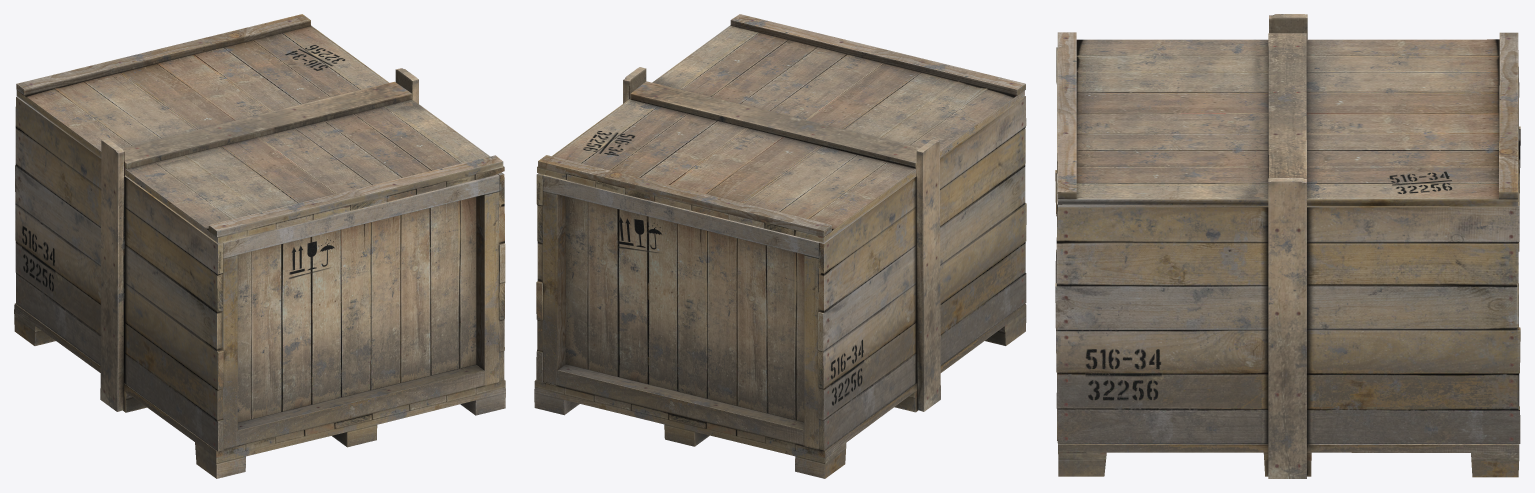
Rendered from wooden_box.glb.
The picture shows the model from 3 angles, left to right: view 1: azimuth 30°, elevation 25°; view 2: azimuth 150°, elevation 25°; view 3: azimuth 270°, elevation 25°; orthographic projection. The views are drawn at different scales.
Parts seen in each view (by area): view 1: wood_box_LOD0_Material #27_0, wood_cap_LOD0_Material #27_0, Object002_Material #28_0, wood_cap_LOD0_Material #28_0; view 2: wood_box_LOD0_Material #27_0, wood_cap_LOD0_Material #27_0, Object002_Material #28_0, wood_cap_LOD0_Material #28_0; view 3: wood_box_LOD0_Material #27_0, wood_cap_LOD0_Material #27_0, Object002_Material #28_0, wood_cap_LOD0_Material #28_0.
Part boxes in pixels (x1,y1,x2,y2): wood_box_LOD0_Material #27_0: (14,68,505,478); wood_cap_LOD0_Material #27_0: (16,14,504,242); Object002_Material #28_0: (22,226,334,291); wood_cap_LOD0_Material #28_0: (285,45,345,70); wood_box_LOD0_Material #27_0: (534,67,1026,478); wood_cap_LOD0_Material #27_0: (537,14,1025,242); Object002_Material #28_0: (618,217,863,405); wood_cap_LOD0_Material #28_0: (583,131,635,155); wood_box_LOD0_Material #27_0: (1055,14,1520,478); wood_cap_LOD0_Material #27_0: (1057,32,1518,206); Object002_Material #28_0: (1085,349,1161,400); wood_cap_LOD0_Material #28_0: (1389,171,1452,193).
Size of the model in its own units: 1.04 by 0.8551 by 1.21.
Materials: 2 (2 with a texture image).
